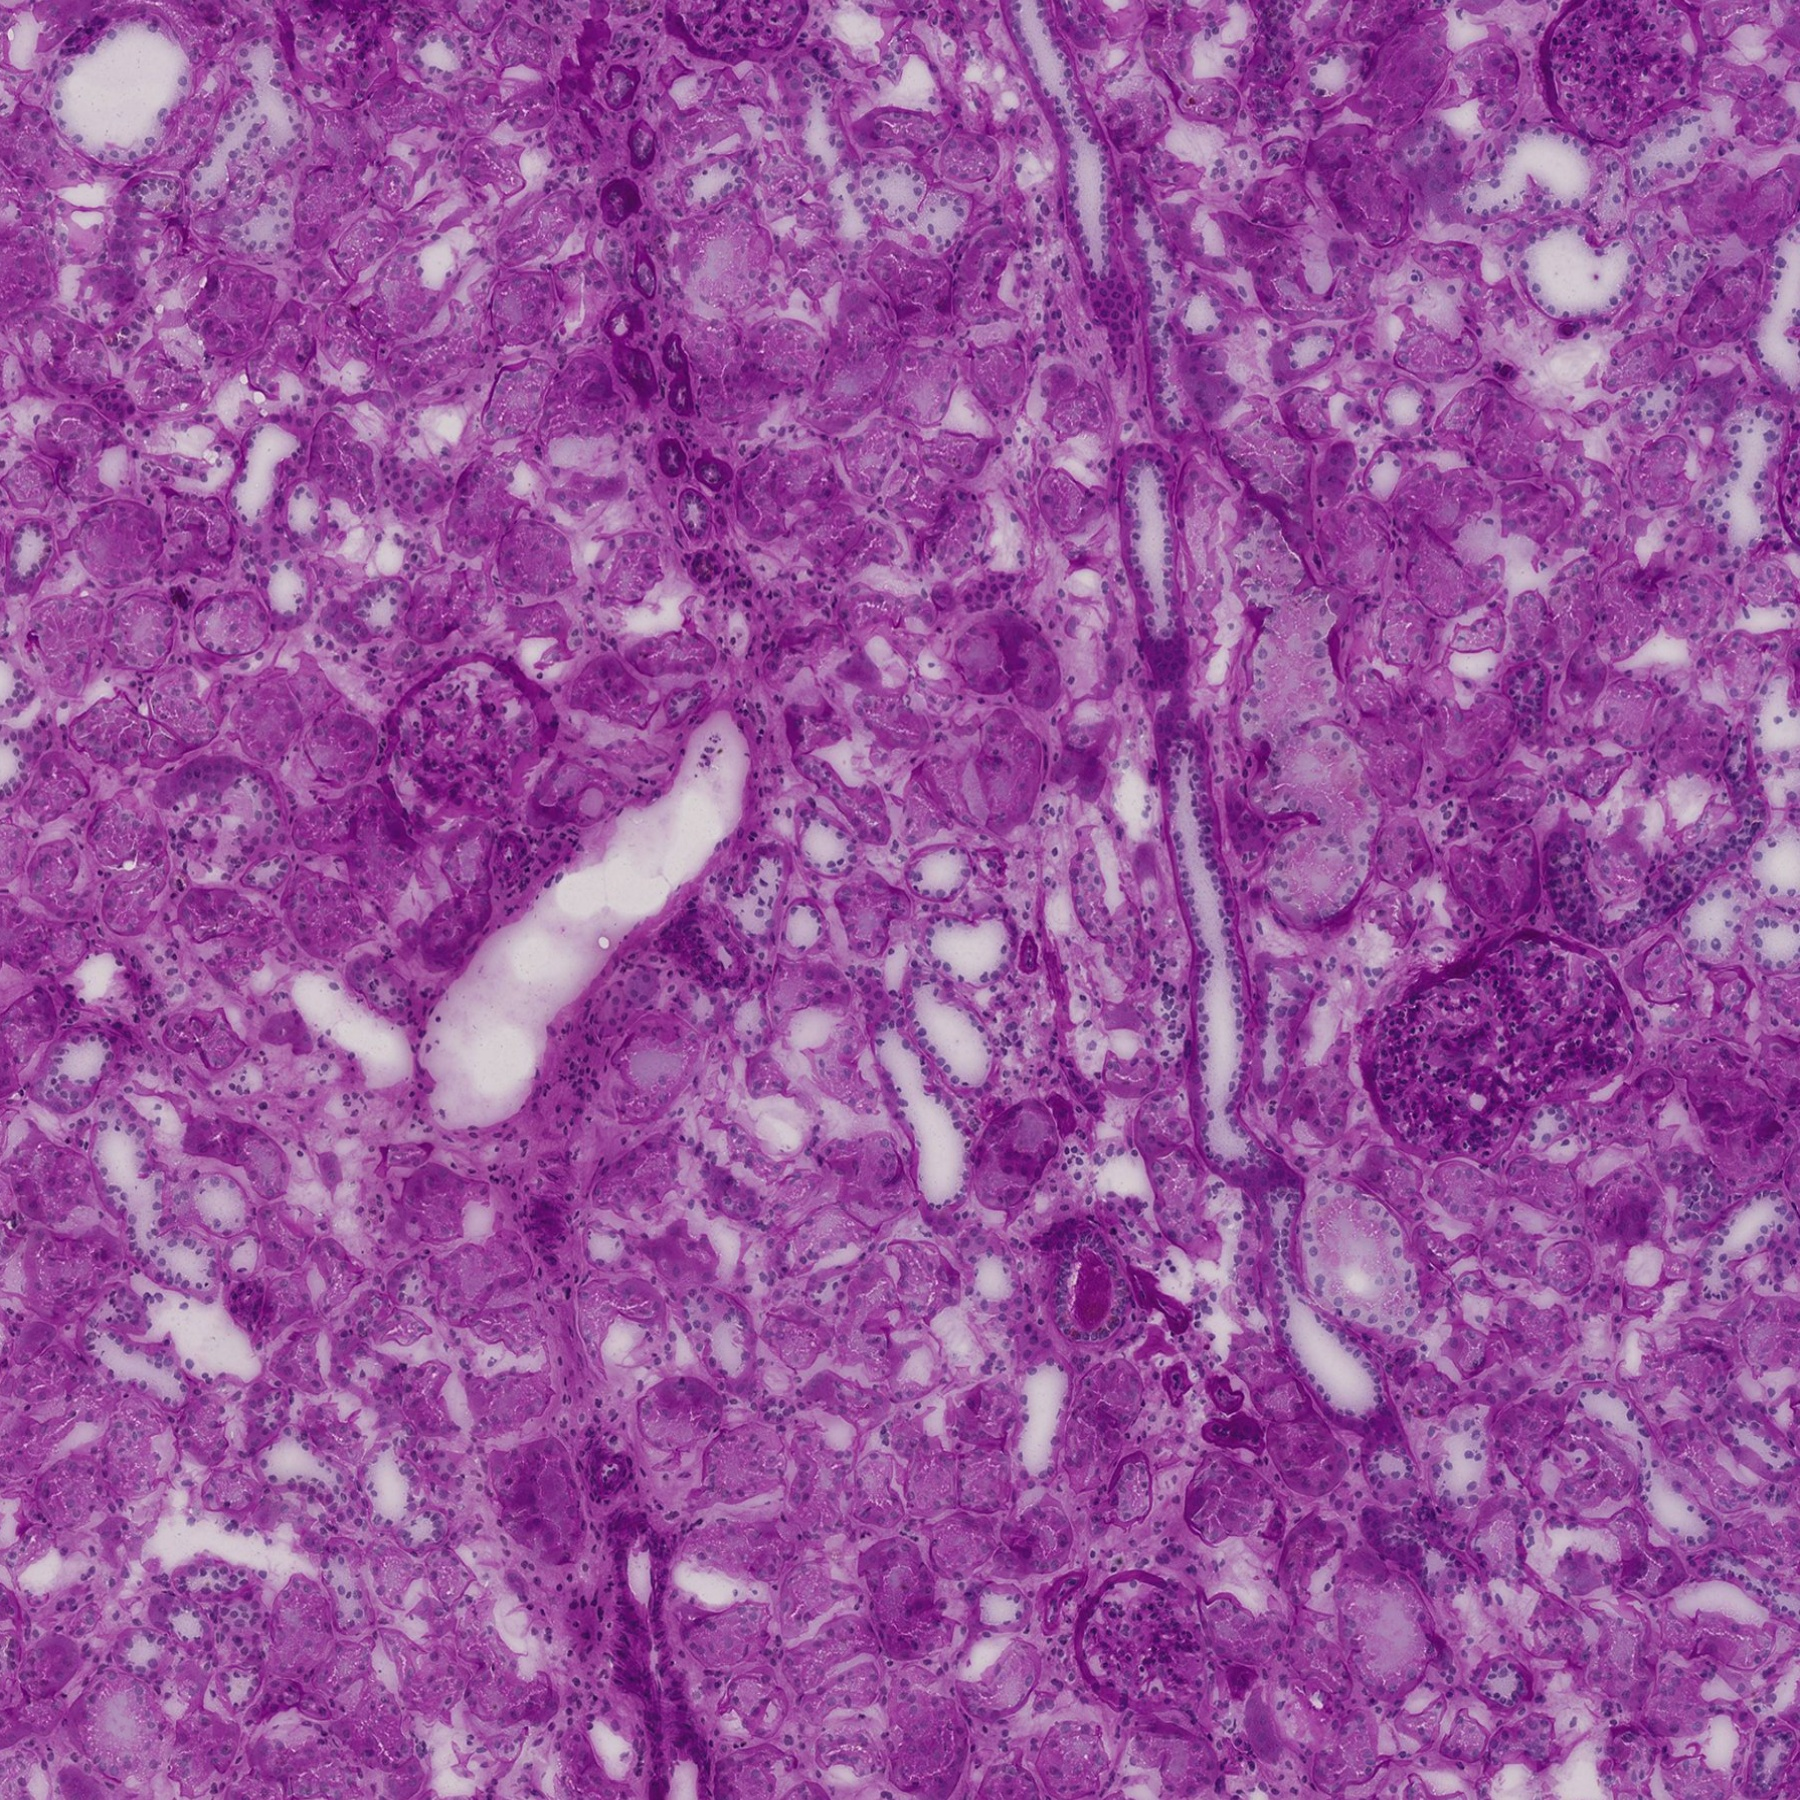Glomeruli: (1360, 928, 1638, 1160), (381, 654, 551, 834), (1538, 2, 1704, 148), (1080, 1576, 1213, 1718), (663, 2, 809, 63)
